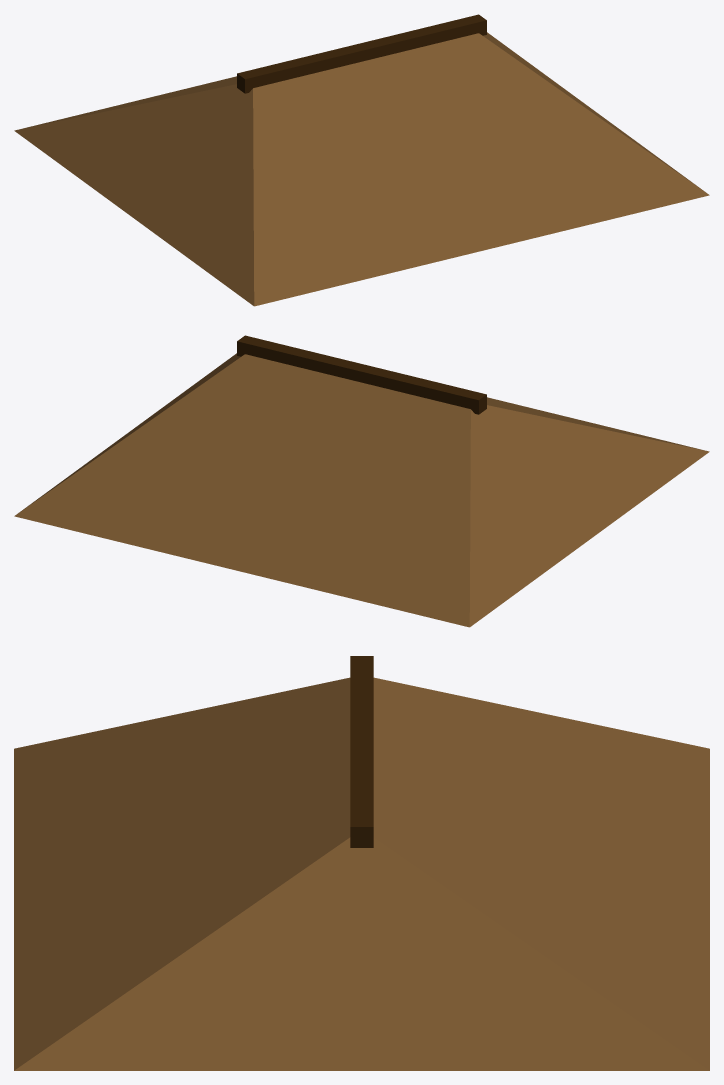
Rendered from building_shell_coastal_roof.glb.
3 renders of one model, top to bottom at view 1: azimuth 30°, elevation 25°; view 2: azimuth 150°, elevation 25°; view 3: azimuth 270°, elevation 25°, orthographic. The views are drawn at different scales.
Parts seen in each view (by area): view 1: building_shell_coastal_roof; view 2: building_shell_coastal_roof; view 3: building_shell_coastal_roof.
Boxes of the visible parts, bbox=[...] form: building_shell_coastal_roof: bbox=[14, 14, 709, 306]; building_shell_coastal_roof: bbox=[14, 335, 709, 627]; building_shell_coastal_roof: bbox=[14, 656, 709, 1070].
Size of the model in its own units: 4.6 by 1.12 by 4.2.
